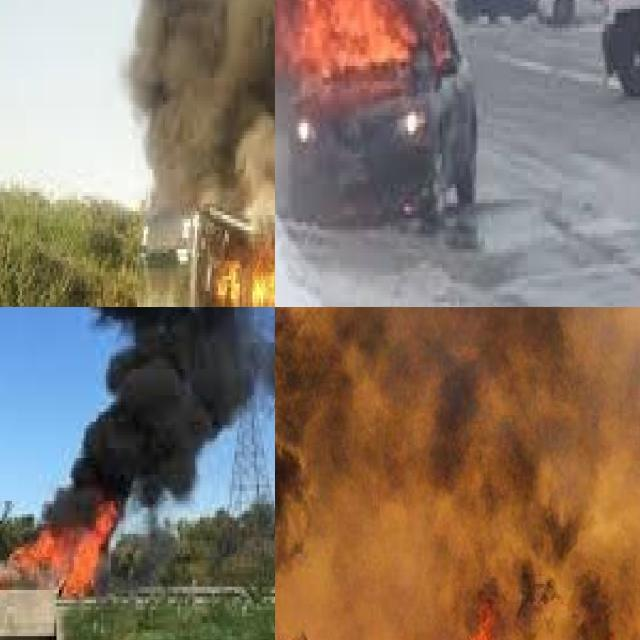fire: (275, 0, 468, 123), (0, 494, 128, 599), (199, 158, 275, 307)
smoke: (275, 307, 640, 640), (36, 307, 275, 527), (124, 0, 275, 203)
